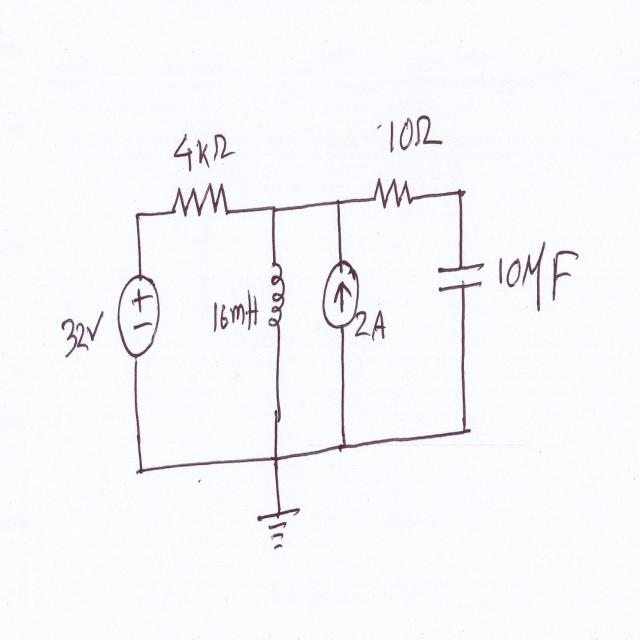capacitor: (429, 258, 489, 304)
current_source: (320, 257, 360, 333)
ground: (252, 498, 314, 561)
inductor: (263, 250, 292, 342)
resistor: (165, 181, 237, 227), (368, 174, 417, 214)
voltage_source: (116, 266, 163, 366)
